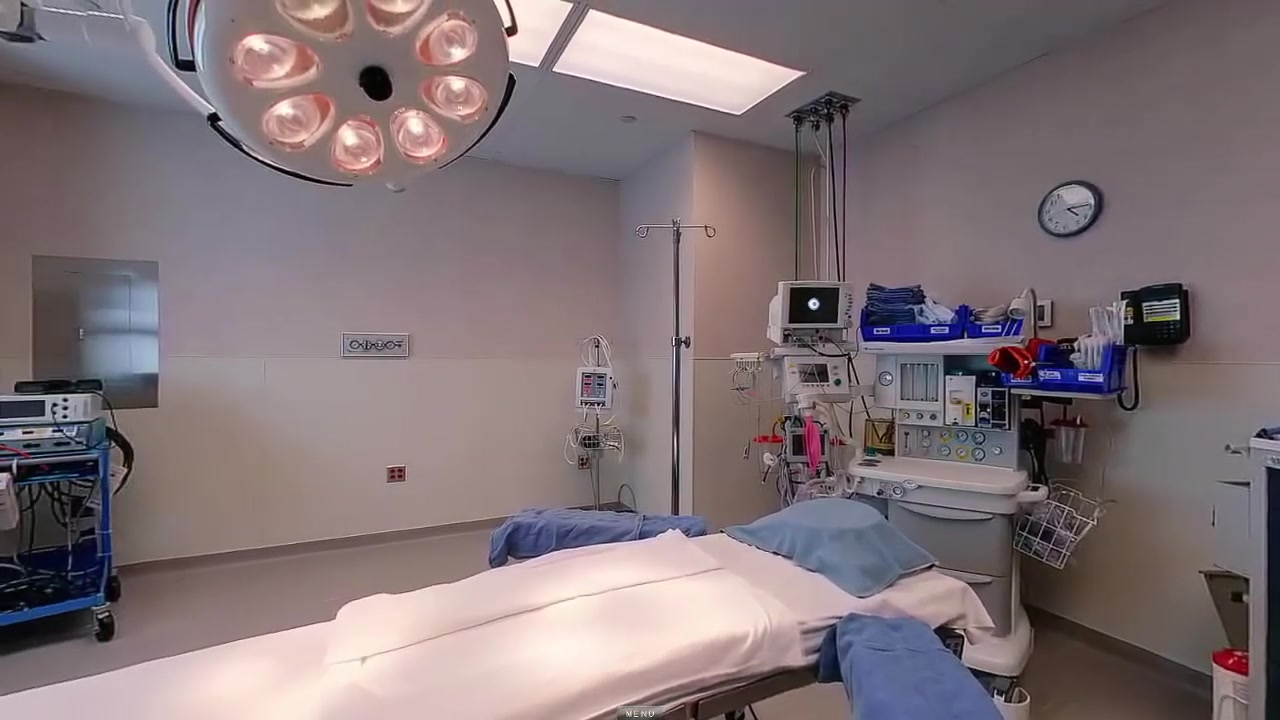bedside_monitor: (786, 284, 843, 326)
electrosurgical_unit: (1, 416, 108, 457)
handle: (897, 501, 995, 521), (933, 566, 993, 586), (1016, 482, 1049, 504)
iv_pole: (633, 217, 716, 518), (579, 335, 615, 506)
operating_bed: (3, 497, 995, 720)
surgical_light: (166, 1, 520, 188)
telephone: (1115, 282, 1185, 347)
